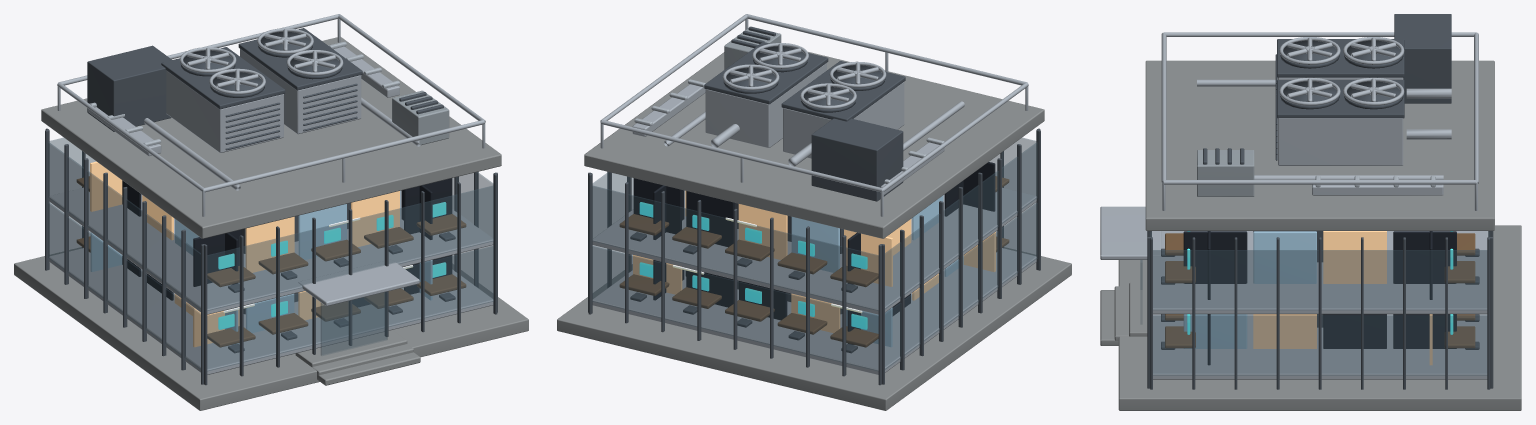
Rendered from soc.glb.
The picture shows the model from 3 angles, left to right: view 1: azimuth 30°, elevation 25°; view 2: azimuth 150°, elevation 25°; view 3: azimuth 270°, elevation 25°; orthographic projection. The views are drawn at different scales.
Visible parts, largest first — view 1: body_concrete.055, body_glass.048, body_steel.170, body_dark.160, body_steel.171, body_window.021, body_wood.021, body_window_dark.014, body_window_cool.014, body_dark.161, body_ceramic.029, body_blue.018 (+1 smaller); view 2: body_glass.048, body_concrete.055, body_steel.170, body_dark.160, body_steel.171, body_window_dark.014, body_wood.021, body_window.021, body_window_cool.014, body_dark.161, body_blue.018, body_ceramic.029 (+1 smaller); view 3: body_concrete.055, body_glass.048, body_steel.170, body_dark.160, body_steel.171, body_window_dark.014, body_window.021, body_window_cool.014, body_wood.021, body_dark.161, body_ceramic.029.
Part boxes in pixels (x1,y1,x2,y2): body_concrete.055: (14,37,528,410); body_glass.048: (48,137,493,371); body_steel.170: (49,43,493,374); body_dark.160: (45,28,497,385); body_steel.171: (57,14,485,216); body_window.021: (90,161,399,347); body_wood.021: (76,176,466,347); body_window_dark.014: (122,178,452,307); body_window_cool.014: (90,191,432,344); body_dark.161: (180,32,342,97); body_ceramic.029: (392,90,449,145); body_blue.018: (218,202,446,329); body_glass.048: (592,137,1037,371); body_concrete.055: (557,52,1071,410); body_steel.170: (592,63,1036,374); body_dark.160: (588,26,1040,385); body_steel.171: (600,14,1028,216); body_window_dark.014: (633,162,995,344); body_wood.021: (619,176,1009,347); body_window.021: (633,190,995,333); body_window_cool.014: (791,195,963,347); body_dark.161: (723,46,885,112); body_blue.018: (639,202,867,329); body_ceramic.029: (724,27,781,69); body_concrete.055: (1100,60,1521,410); body_glass.048: (1140,232,1489,375); body_steel.170: (1100,77,1488,379); body_dark.160: (1147,14,1493,389); body_steel.171: (1161,32,1478,210); body_window_dark.014: (1183,231,1456,365); body_window.021: (1253,231,1432,365); body_window_cool.014: (1183,231,1316,348); body_wood.021: (1165,233,1475,348); body_dark.161: (1280,40,1403,109); body_ceramic.029: (1197,150,1254,196).
Size of the model in its own units: 2 by 1.38 by 2.05.
